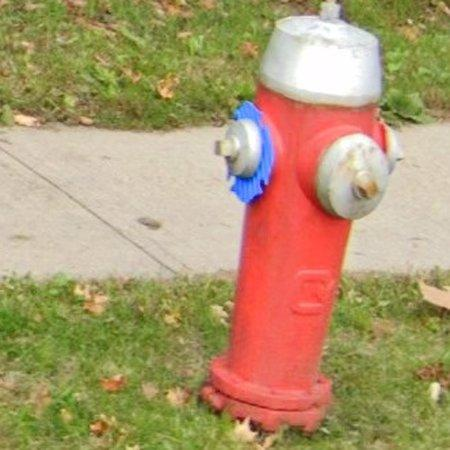a fire hydrant: (202, 0, 402, 432)
